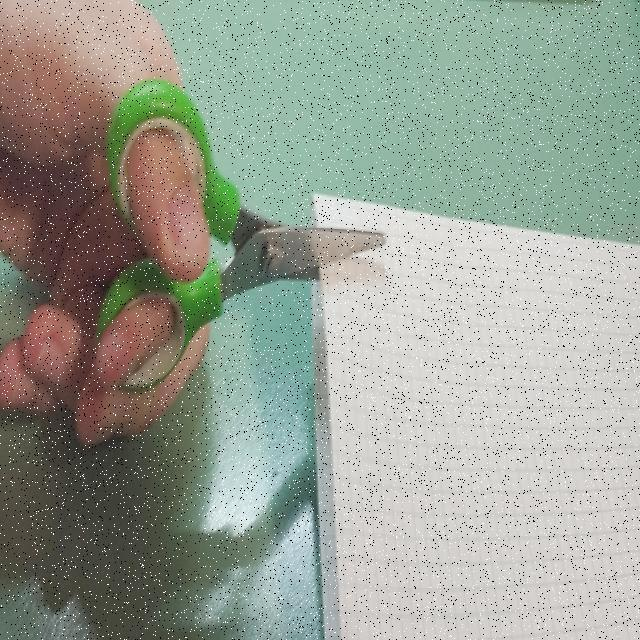scissors: (88, 75, 391, 401)
